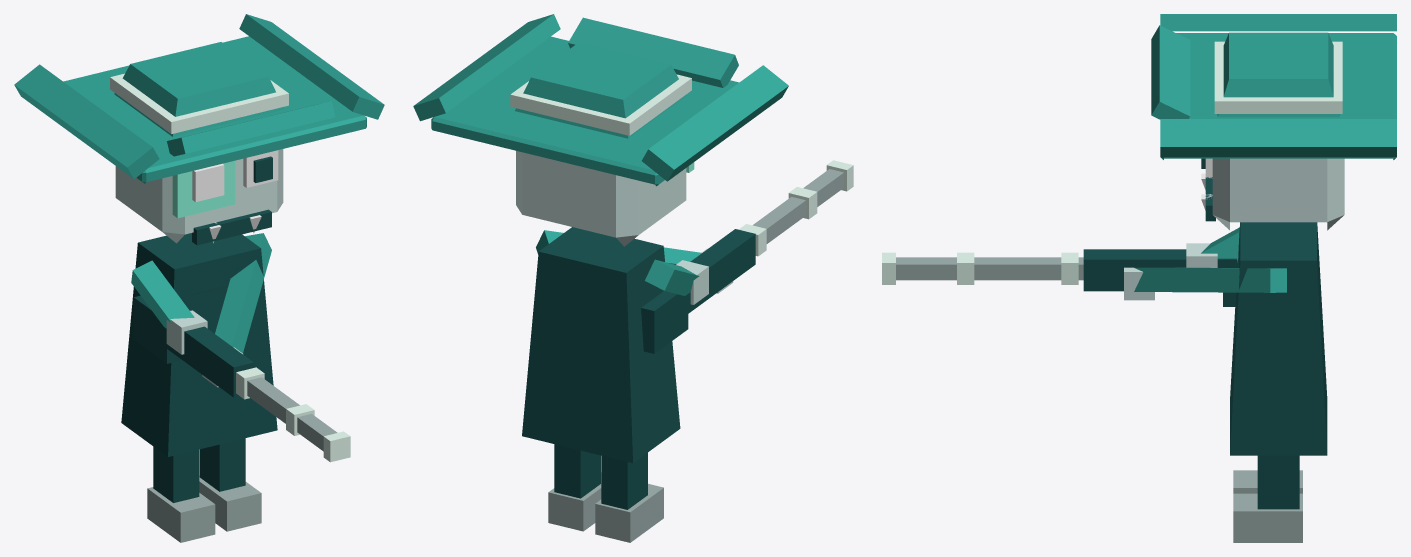
File: sniper_enemy_r14.glb
3 views of the same model, side by side, from view 1: azimuth 30°, elevation 25°; view 2: azimuth 150°, elevation 25°; view 3: azimuth 270°, elevation 25° (orthographic). The views are drawn at different scales.
Parts seen in each view (by area): view 1: sniper_enemy_r14_mesh; view 2: sniper_enemy_r14_mesh; view 3: sniper_enemy_r14_mesh.
Part boxes in pixels (left/top/right/bottom): sniper_enemy_r14_mesh: left=14, top=14, right=384, bottom=542; sniper_enemy_r14_mesh: left=413, top=14, right=853, bottom=542; sniper_enemy_r14_mesh: left=882, top=14, right=1396, bottom=542.
Size of the model in its own units: 1.02 by 1.7 by 1.7.
Materials: 1 (1 with a texture image).
